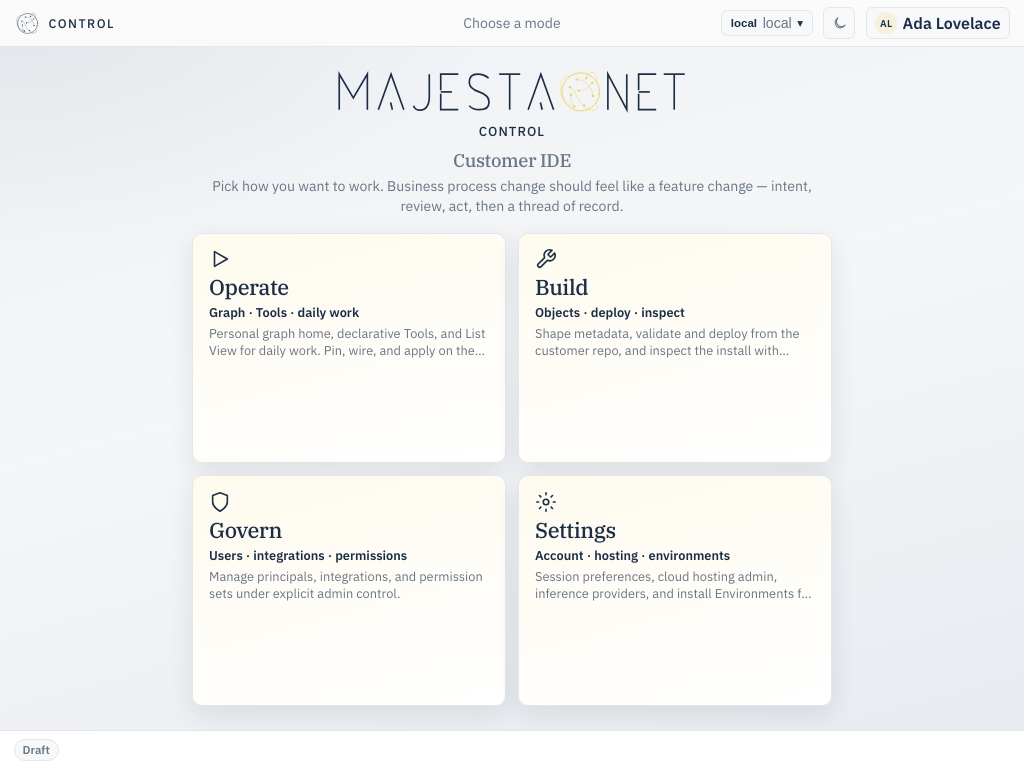
Test: App › enters Operate at the personal graph home and keeps the graph search in its command bar
The width and height of the screenshot is (1024, 768).
Check: the element with test id "mode-launcher" is shown, box left=192, top=67, right=832, bottom=706
Click the button with test id "mode-launch-operate": (349, 348) left=192, top=233, right=506, bottom=464
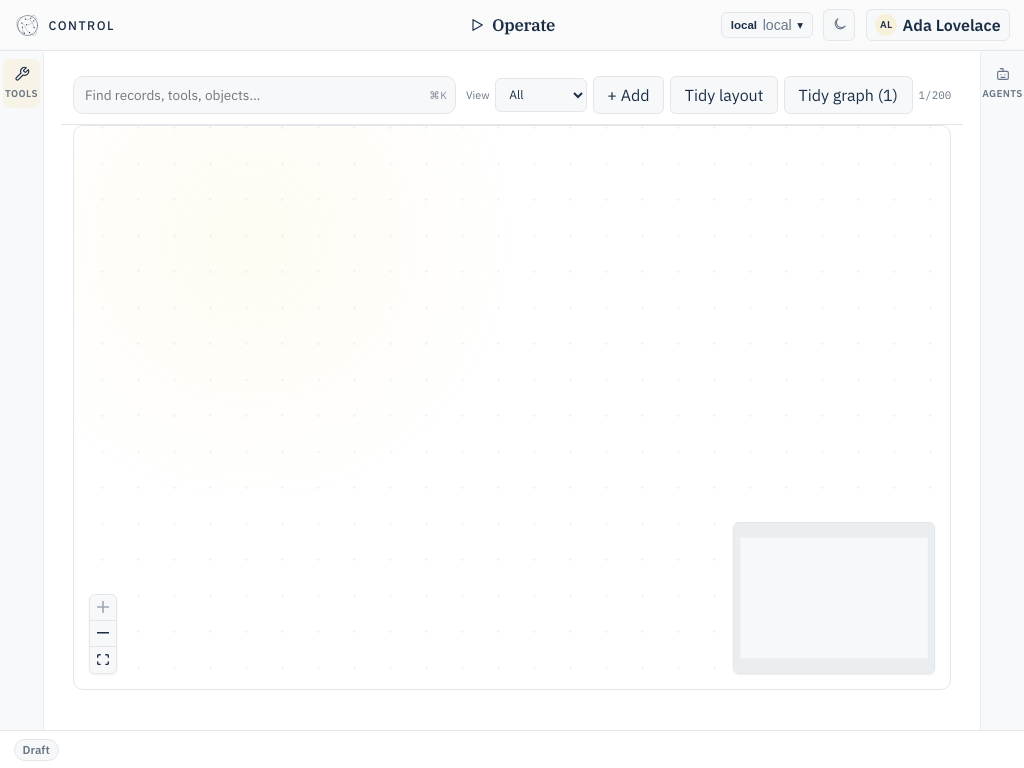
Check: the element with test id "workspace-canvas" is shown
Check: the dropdown with test id "operate-global-search" is shown, box left=73, top=76, right=456, bottom=114
Check: the element with test id "run-graph-home" is shown
Hover over the element with test id "workspace-tool-rail": (22, 390) left=0, top=51, right=44, bottom=730
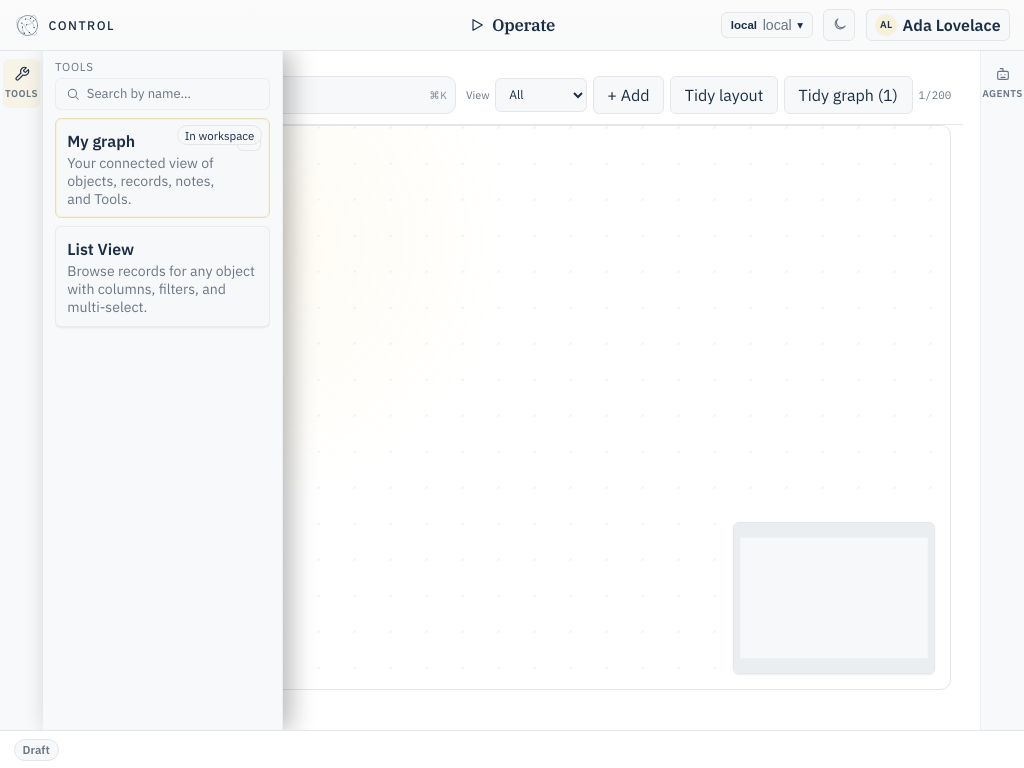
Check: the element with test id "workspace-tool-rail-flyout" is shown, box left=43, top=51, right=283, bottom=730
Check: the button with test id "tool-rail-runGraph" is shown, box left=58, top=121, right=233, bottom=215
Check: the button with test id "tool-rail-objectHome" is shown
Click the button with test id "tool-rail-objectHome": (162, 277) left=58, top=230, right=267, bottom=324
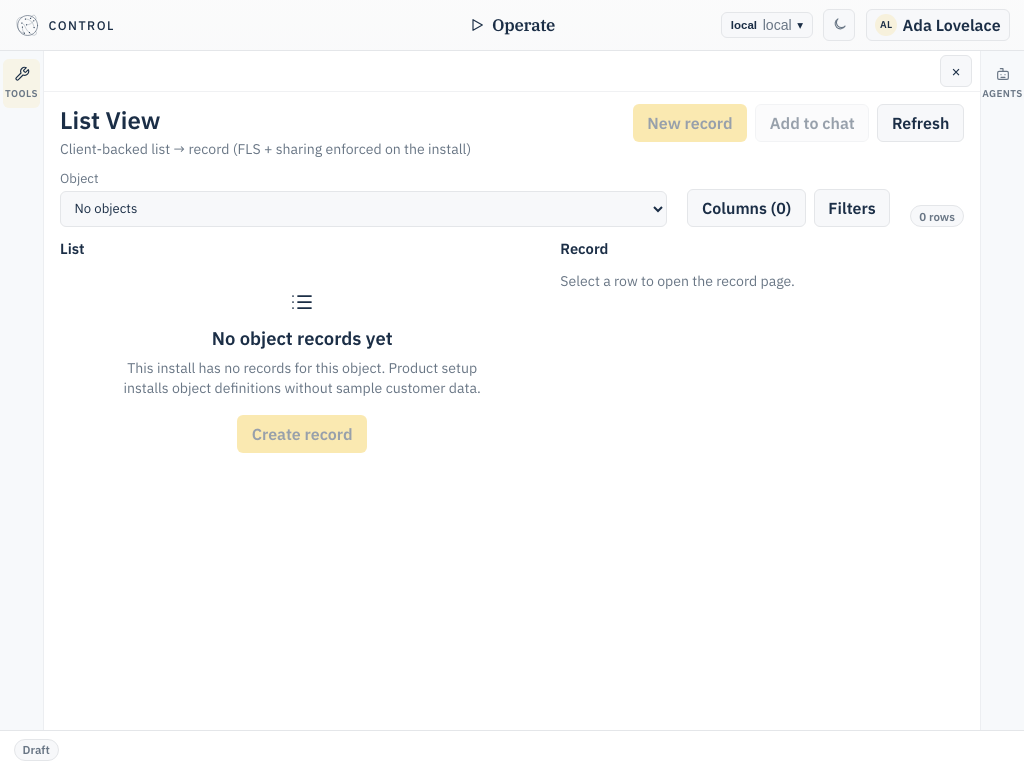
Check: the element with test id "run-object-home-panel" is shown
Check: the element with test id "run-graph-home" is gone
Hover over the element with test id "agent-stream": (1002, 390) left=980, top=51, right=1023, bottom=730
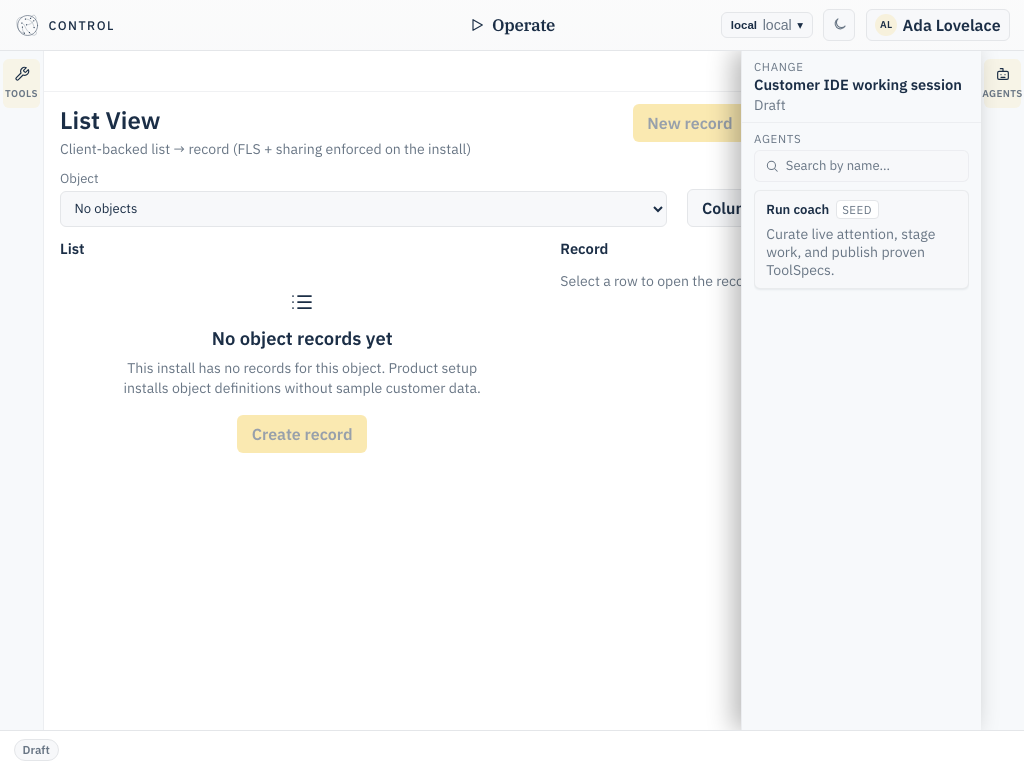
Check: the element with test id "stream-agent-cards" is shown, box left=754, top=131, right=969, bottom=289
Check: the element with test id "agent-drag-agent-run" is shown, box left=754, top=190, right=969, bottom=289
